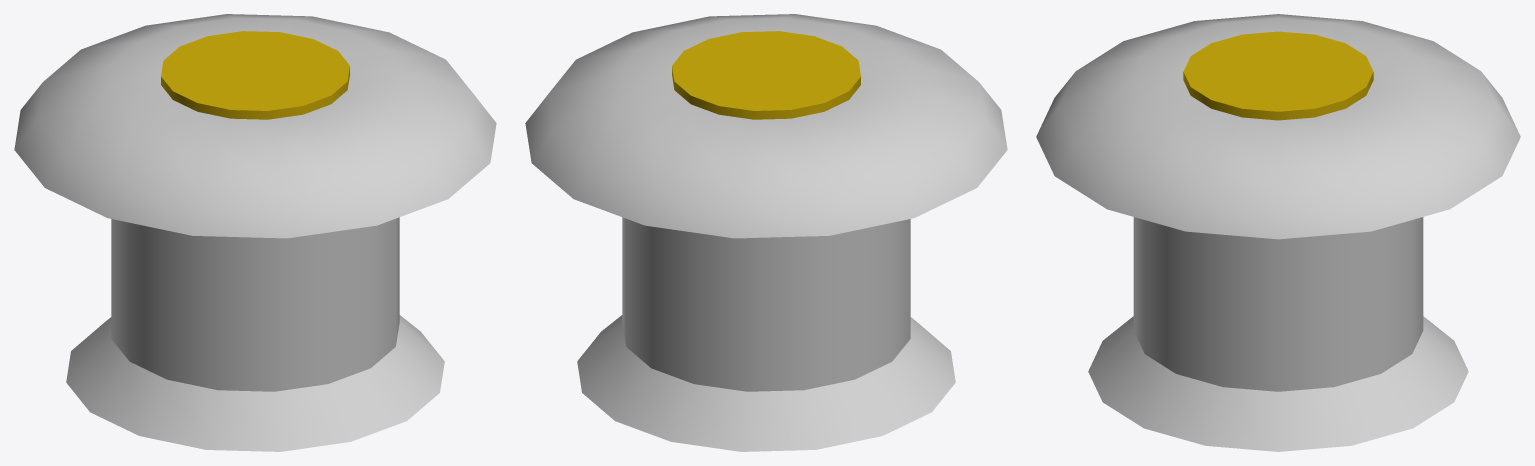
Rendered from mushroom_things.fbx.
3 views of the same model, side by side, from view 1: azimuth 30°, elevation 25°; view 2: azimuth 150°, elevation 25°; view 3: azimuth 270°, elevation 25° (orthographic).
Visible parts, largest first — view 1: Cylinder; view 2: Cylinder; view 3: Cylinder.
Part boxes in pixels (box(x1,y1,x2,y2)): Cylinder: box(14, 14, 496, 451); Cylinder: box(525, 14, 1007, 451); Cylinder: box(1036, 14, 1520, 451).
Bounding box in the file's own units: 187 × 128 × 187.
